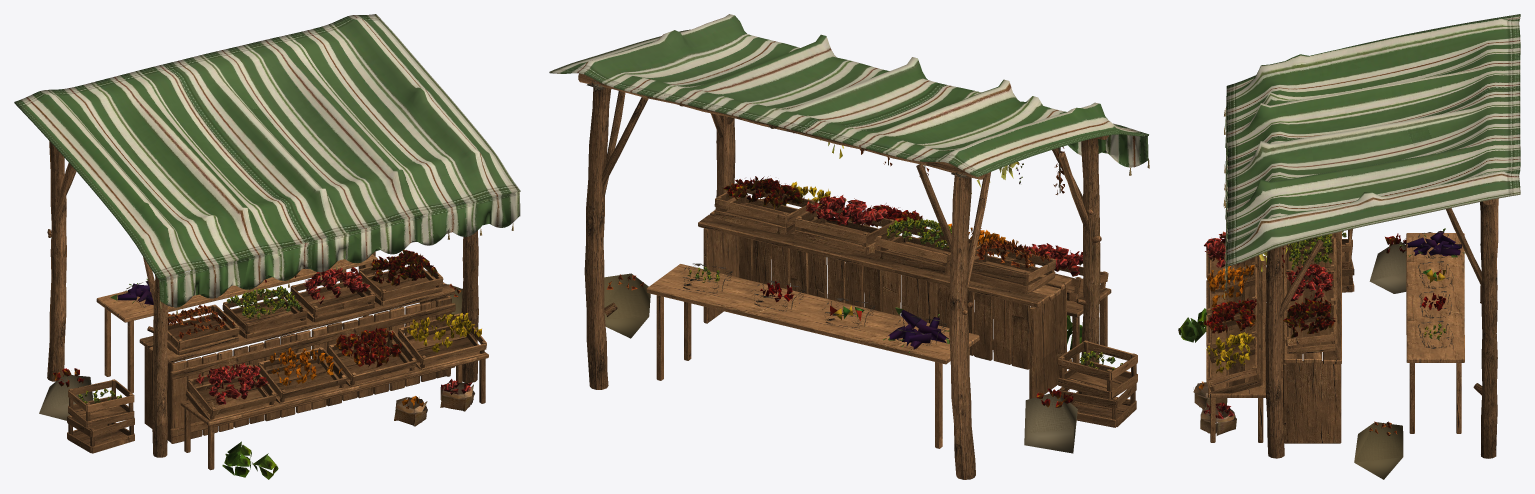
Rendered from village-kiosk-4-v5-lite.glb.
The picture shows the model from 3 angles, left to right: view 1: azimuth 30°, elevation 25°; view 2: azimuth 150°, elevation 25°; view 3: azimuth 270°, elevation 25°; orthographic projection. The views are drawn at different scales.
Parts seen in each view (by area): view 1: K4_Cloth, K4_Wood, K4_Props, K4_Bark, K4_Sack; view 2: K4_Wood, K4_Cloth, K4_Bark, K4_Props, K4_Sack; view 3: K4_Cloth, K4_Wood, K4_Props, K4_Bark, K4_Sack.
Boxes of the visible parts, <box> form: K4_Cloth: <box>14,14,520,307</box>; K4_Wood: <box>67,254,488,470</box>; K4_Props: <box>53,223,513,479</box>; K4_Bark: <box>47,141,478,457</box>; K4_Sack: <box>39,284,462,423</box>; K4_Wood: <box>646,188,1137,448</box>; K4_Cloth: <box>549,14,1148,176</box>; K4_Bark: <box>578,73,1108,479</box>; K4_Props: <box>587,80,1149,409</box>; K4_Sack: <box>604,273,1077,453</box>; K4_Cloth: <box>1225,14,1520,291</box>; K4_Wood: <box>1206,229,1464,443</box>; K4_Props: <box>1178,108,1465,435</box>; K4_Bark: <box>1265,198,1498,458</box>; K4_Sack: <box>1354,241,1406,479</box>.
Bounding box in the file's own units: 4.7 × 3.02 × 3.23.
5 materials, 5 textured.
